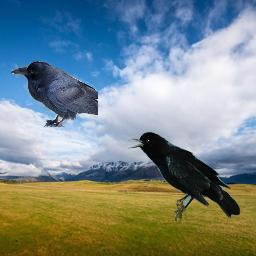Crow: (128, 132, 240, 222), (11, 61, 98, 127)
